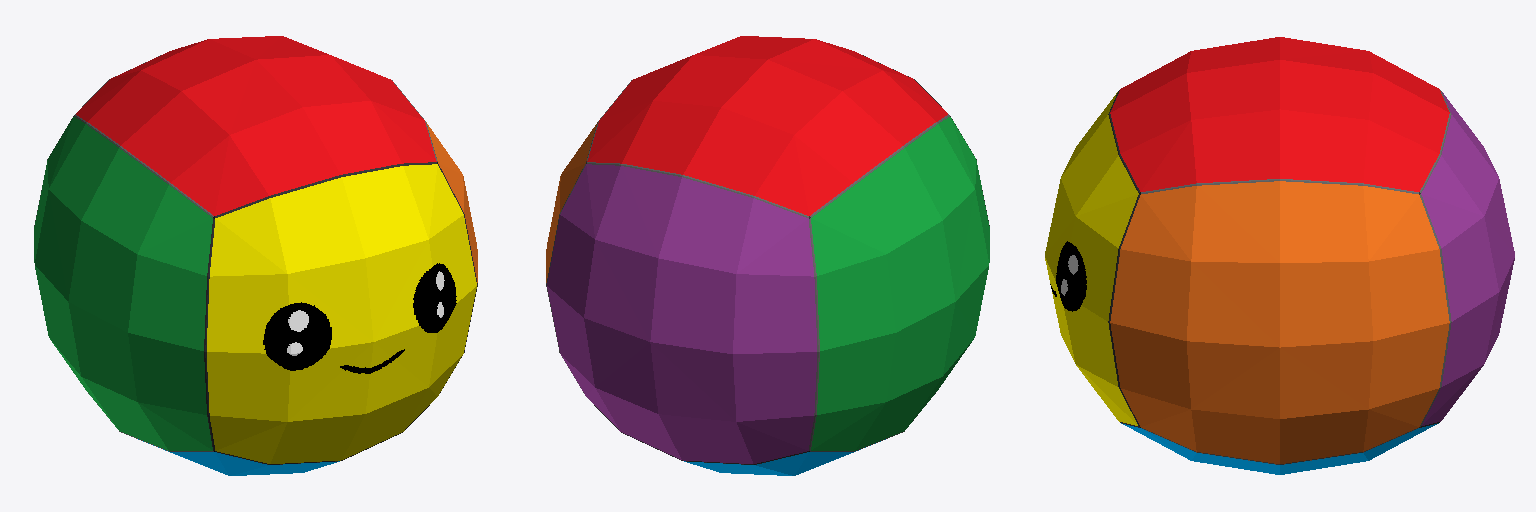
3 views of the same model, side by side, from view 1: azimuth 30°, elevation 25°; view 2: azimuth 150°, elevation 25°; view 3: azimuth 270°, elevation 25° (orthographic).
Parts seen in each view (by area): view 1: Cube; view 2: Cube; view 3: Cube.
Part boxes in pixels (bbox=[...]): Cube: bbox=[34, 36, 477, 475]; Cube: bbox=[546, 36, 989, 475]; Cube: bbox=[1045, 37, 1514, 474].
Size of the model in its own units: 1.68 by 1.68 by 1.82.
Materials: 1 (1 with a texture image).